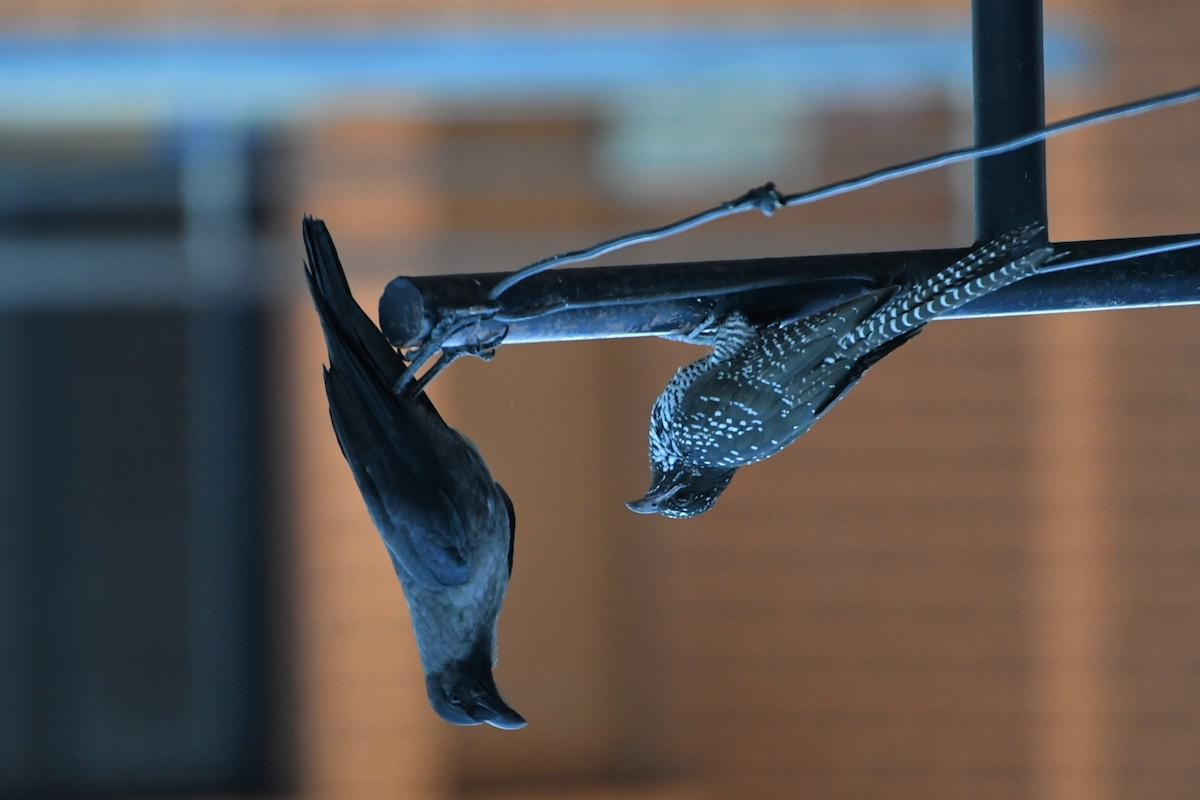crow: (273, 220, 535, 742)
